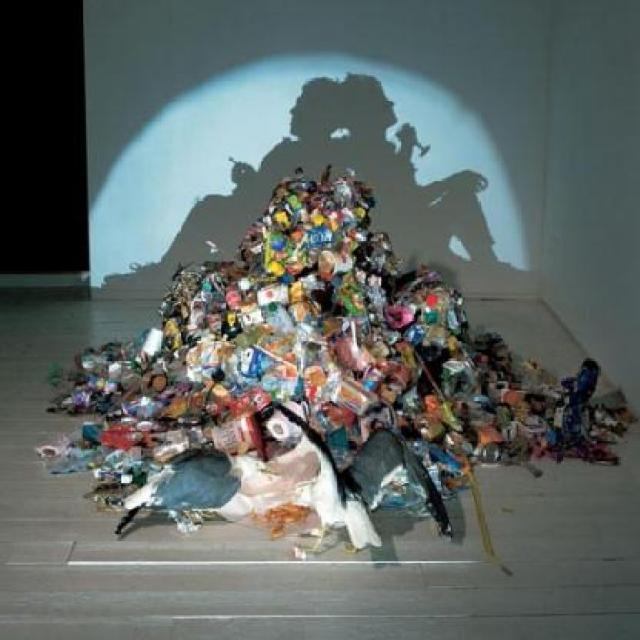garbage: (257, 174, 446, 543), (171, 262, 251, 520), (500, 346, 634, 467), (100, 333, 164, 523), (450, 297, 499, 470), (54, 343, 95, 470)
